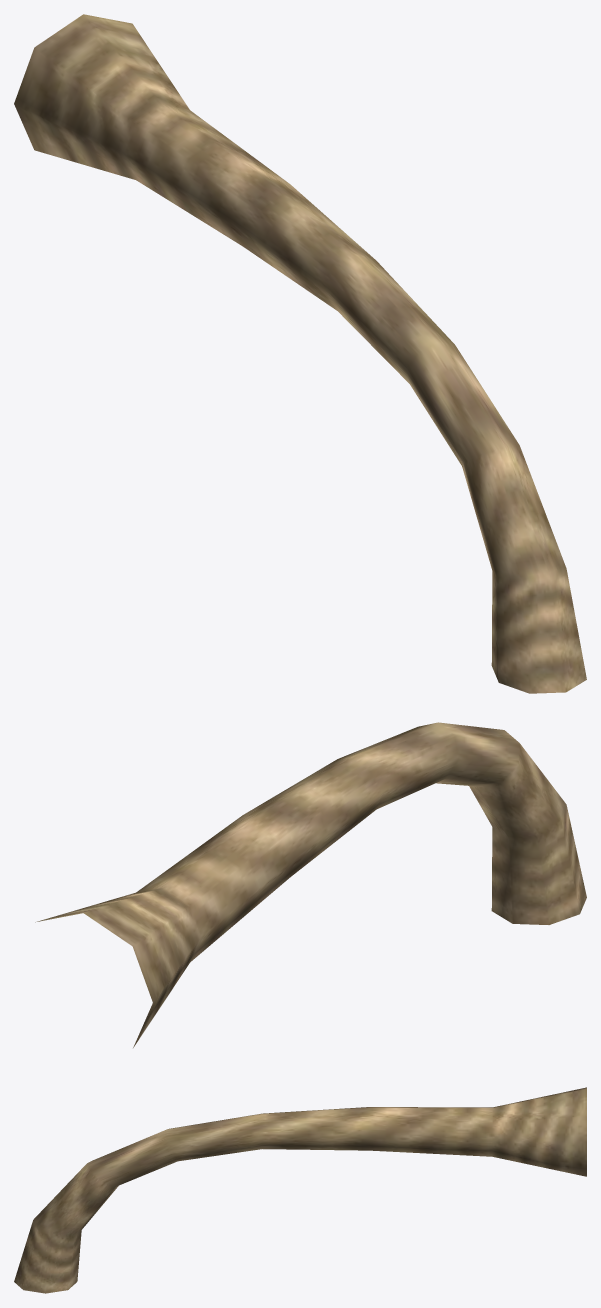
3 renders of one model, top to bottom at view 1: azimuth 30°, elevation 25°; view 2: azimuth 150°, elevation 25°; view 3: azimuth 270°, elevation 25°, orthographic. The views are drawn at different scales.
Parts seen in each view (by area): view 1: model_Object12; view 2: model_Object12; view 3: model_Object12.
Boxes of the visible parts, bbox=[...] form: model_Object12: bbox=[14, 14, 586, 693]; model_Object12: bbox=[35, 722, 586, 1047]; model_Object12: bbox=[14, 1087, 586, 1293].
Size of the model in its own units: 0.3134 by 0.7005 by 1.89.
Materials: 1 (1 with a texture image).
